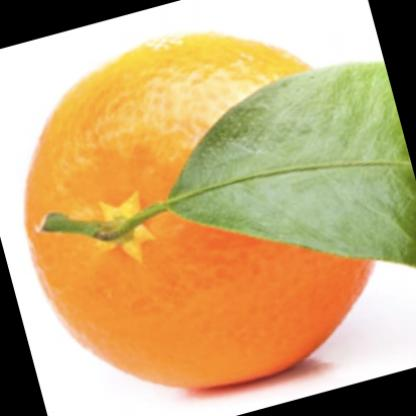orange: (22, 32, 380, 387)
